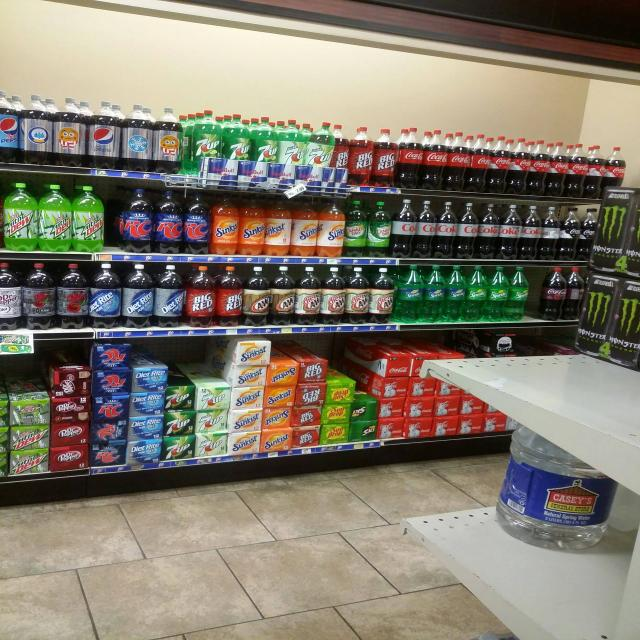empty: (90, 184, 139, 257), (525, 269, 557, 323)
